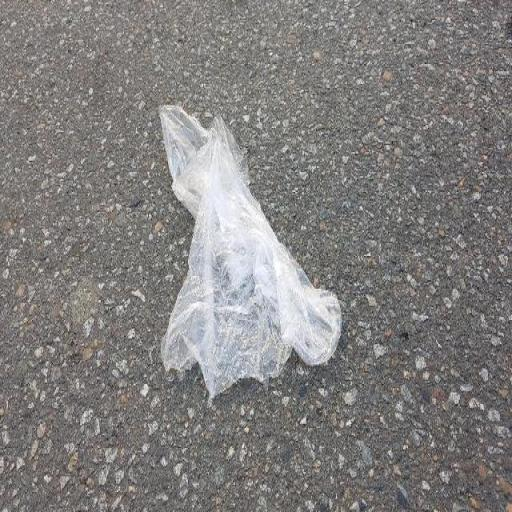plastic-bag: (156, 98, 342, 402)
